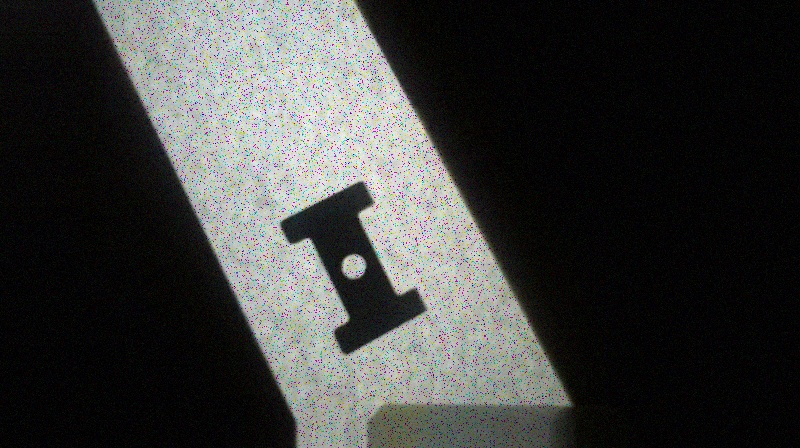O002: (276, 177, 430, 357)
